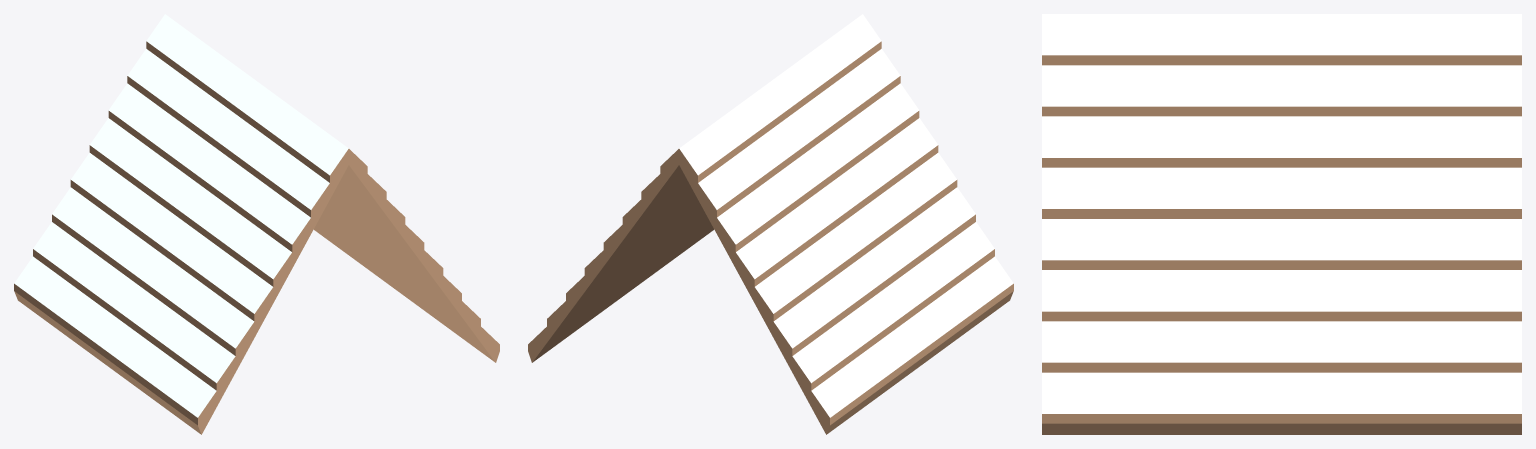
Rendered from cabinRoofCenter.glb.
The picture shows the model from 3 angles, left to right: view 1: azimuth 30°, elevation 25°; view 2: azimuth 150°, elevation 25°; view 3: azimuth 270°, elevation 25°; orthographic projection. The views are drawn at different scales.
Visible parts, largest first — view 1: Mesh cabinRoofCenter_1, Mesh_cabinRoofCenter; view 2: Mesh cabinRoofCenter_1, Mesh_cabinRoofCenter; view 3: Mesh cabinRoofCenter_1, Mesh_cabinRoofCenter.
Part boxes in pixels (x1,y1,x2,y2): Mesh cabinRoofCenter_1: (14,14,348,417); Mesh_cabinRoofCenter: (14,41,499,434); Mesh cabinRoofCenter_1: (679,14,1013,417); Mesh_cabinRoofCenter: (528,41,1013,434); Mesh cabinRoofCenter_1: (1042,14,1521,413); Mesh_cabinRoofCenter: (1042,55,1521,434).
Size of the model in its own units: 1.21 by 0.9559 by 1.27.
